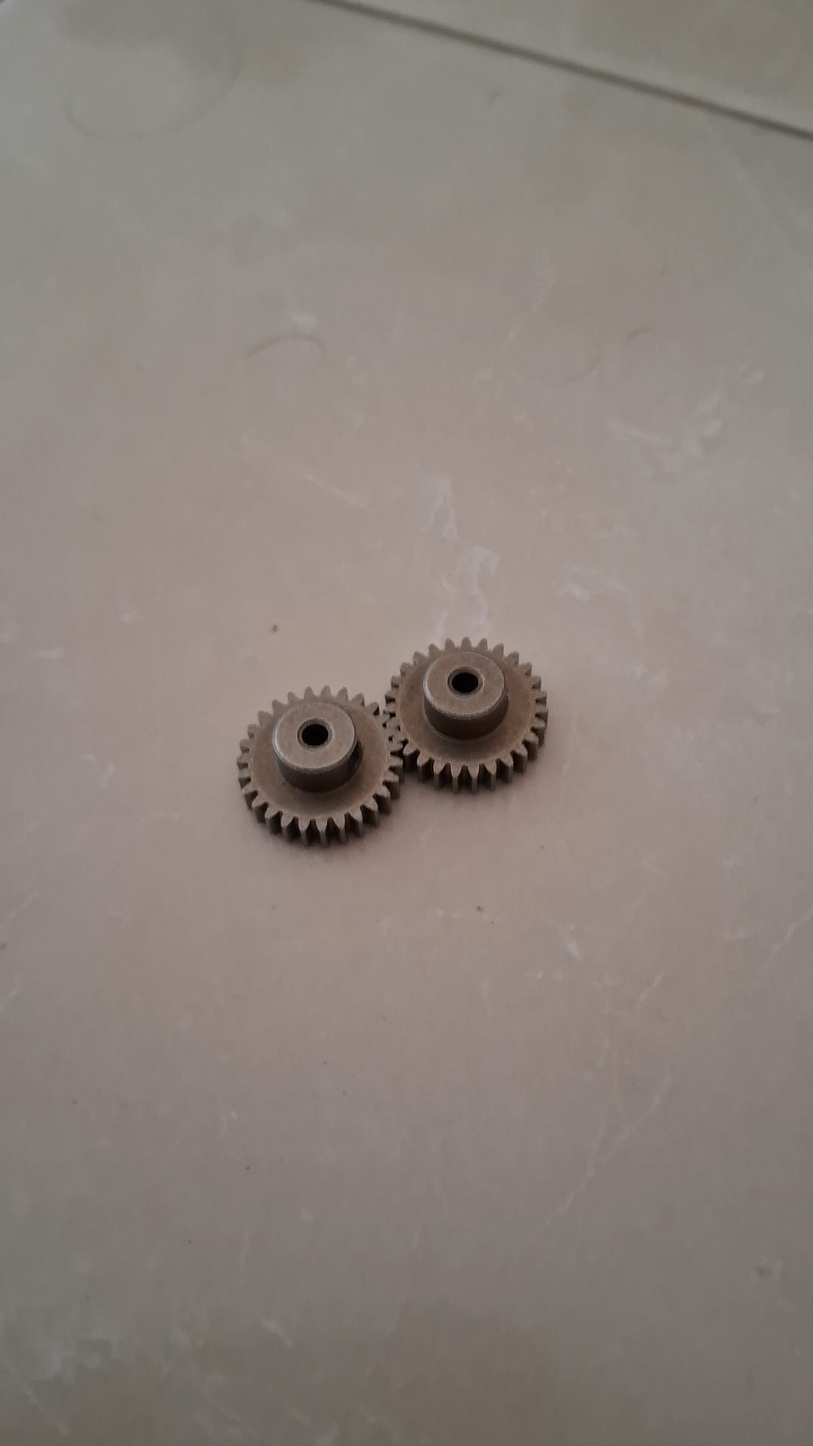spur gear: (237, 688, 402, 844), (385, 638, 548, 792)
